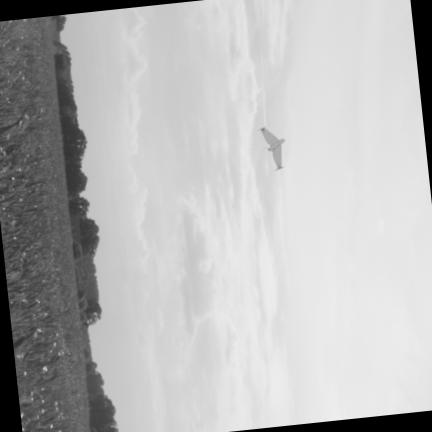Shahed: (260, 127, 283, 170)
